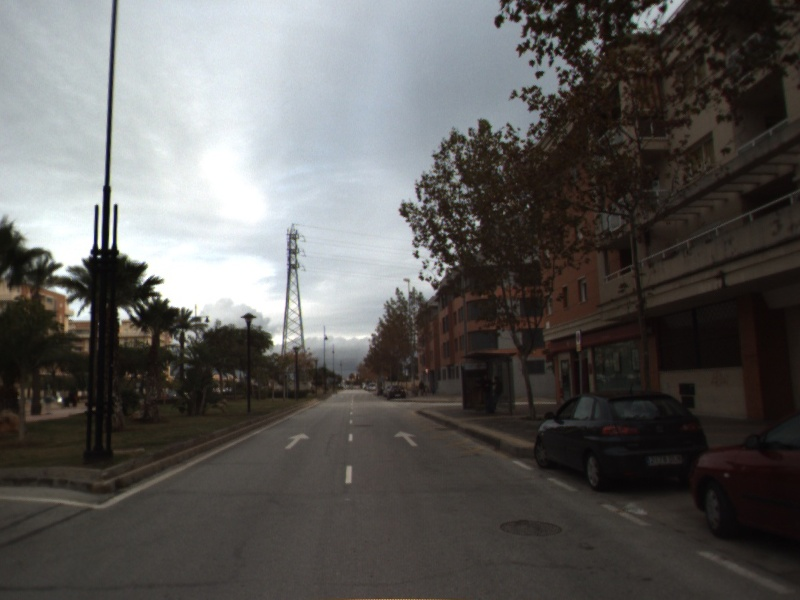STRAIGHT: (283, 431, 312, 451), (392, 429, 420, 448)
